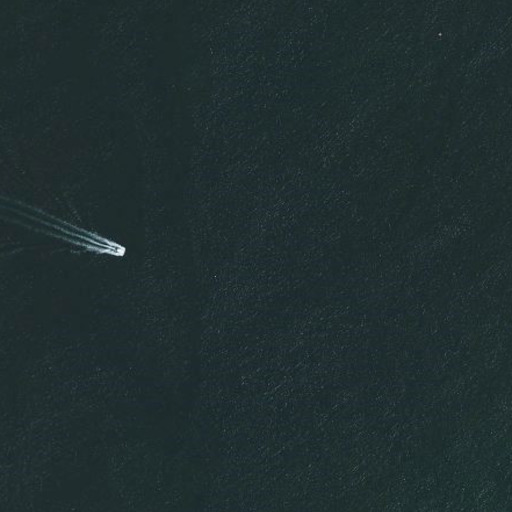ship: (99, 236, 128, 259)
